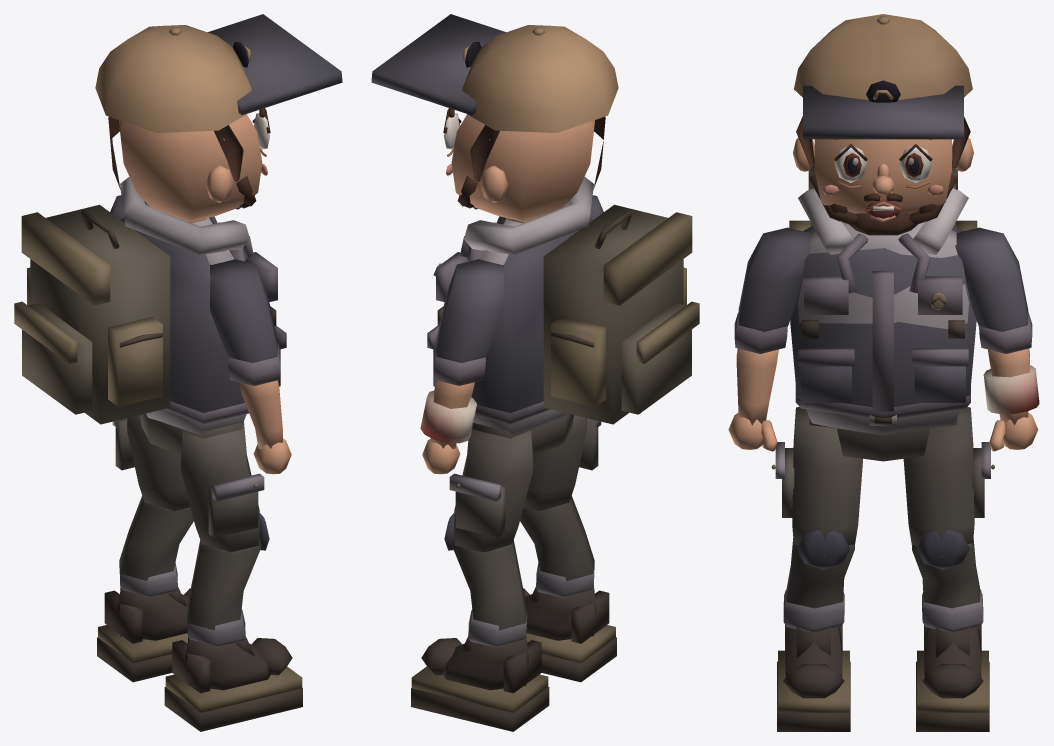
3 renders of one model, left to right at view 1: azimuth 30°, elevation 25°; view 2: azimuth 150°, elevation 25°; view 3: azimuth 270°, elevation 25°, orthographic. The views are drawn at different scales.
Parts seen in each view (by area): view 1: torso_pal_picketWhite, head_pal_picketWhite, footR_pal_picketWhite, legR_pal_picketWhite, footL_pal_picketWhite, shinR_pal_picketWhite, armR_pal_picketWhite, shinL_pal_picketWhite, legL_pal_picketWhite, foreArmR_pal_picketWhite, hip_pal_picketWhite, handR_pal_picketWhite; view 2: torso_pal_picketWhite, head_pal_picketWhite, footL_pal_picketWhite, legL_pal_picketWhite, footR_pal_picketWhite, shinL_pal_picketWhite, armL_pal_picketWhite, shinR_pal_picketWhite, foreArmL_pal_picketWhite, legR_pal_picketWhite, hip_pal_picketWhite, handL_pal_picketWhite; view 3: torso_pal_picketWhite, head_pal_picketWhite, legR_pal_picketWhite, legL_pal_picketWhite, footL_pal_picketWhite, footR_pal_picketWhite, shinR_pal_picketWhite, shinL_pal_picketWhite, armR_pal_picketWhite, armL_pal_picketWhite, foreArmL_pal_picketWhite, foreArmR_pal_picketWhite (+3 smaller).
Part boxes in pixels (bbox=[...]): torso_pal_picketWhite: bbox=[14, 176, 286, 435]; head_pal_picketWhite: bbox=[95, 14, 342, 223]; footR_pal_picketWhite: bbox=[164, 636, 302, 731]; legR_pal_picketWhite: bbox=[180, 421, 264, 552]; footL_pal_picketWhite: bbox=[97, 587, 190, 682]; shinR_pal_picketWhite: bbox=[186, 512, 269, 647]; armR_pal_picketWhite: bbox=[210, 259, 278, 362]; shinL_pal_picketWhite: bbox=[119, 496, 193, 597]; legL_pal_picketWhite: bbox=[112, 415, 190, 511]; foreArmR_pal_picketWhite: bbox=[228, 345, 282, 448]; hip_pal_picketWhite: bbox=[140, 413, 242, 455]; handR_pal_picketWhite: bbox=[253, 438, 291, 474]; torso_pal_picketWhite: bbox=[427, 176, 699, 435]; head_pal_picketWhite: bbox=[371, 14, 618, 223]; footL_pal_picketWhite: bbox=[411, 636, 549, 731]; legL_pal_picketWhite: bbox=[449, 429, 533, 552]; footR_pal_picketWhite: bbox=[523, 586, 616, 682]; shinL_pal_picketWhite: bbox=[444, 512, 527, 647]; armL_pal_picketWhite: bbox=[435, 259, 503, 362]; shinR_pal_picketWhite: bbox=[520, 496, 594, 597]; foreArmL_pal_picketWhite: bbox=[420, 345, 485, 448]; legR_pal_picketWhite: bbox=[523, 415, 601, 511]; hip_pal_picketWhite: bbox=[472, 413, 573, 455]; handL_pal_picketWhite: bbox=[422, 438, 460, 474]; torso_pal_picketWhite: bbox=[789, 160, 977, 435]; head_pal_picketWhite: bbox=[793, 14, 973, 235]; legR_pal_picketWhite: bbox=[771, 407, 862, 545]; legL_pal_picketWhite: bbox=[903, 407, 994, 546]; footL_pal_picketWhite: bbox=[916, 625, 989, 731]; footR_pal_picketWhite: bbox=[777, 625, 850, 731]; shinR_pal_picketWhite: bbox=[783, 529, 854, 632]; shinL_pal_picketWhite: bbox=[912, 530, 983, 632]; armR_pal_picketWhite: bbox=[738, 227, 811, 331]; armL_pal_picketWhite: bbox=[955, 227, 1028, 331]; foreArmL_pal_picketWhite: bbox=[979, 312, 1039, 425]; foreArmR_pal_picketWhite: bbox=[734, 312, 787, 425].
Bounding box in the file's own units: 0.6016 × 1.45 × 0.6043.
